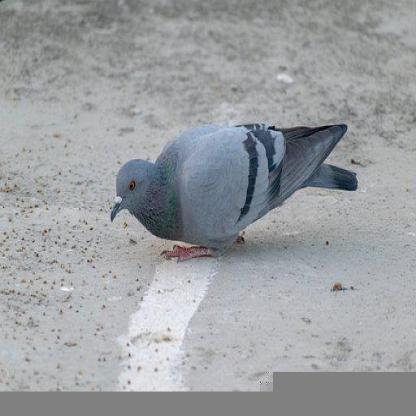Flying Rat: (102, 119, 357, 271)
